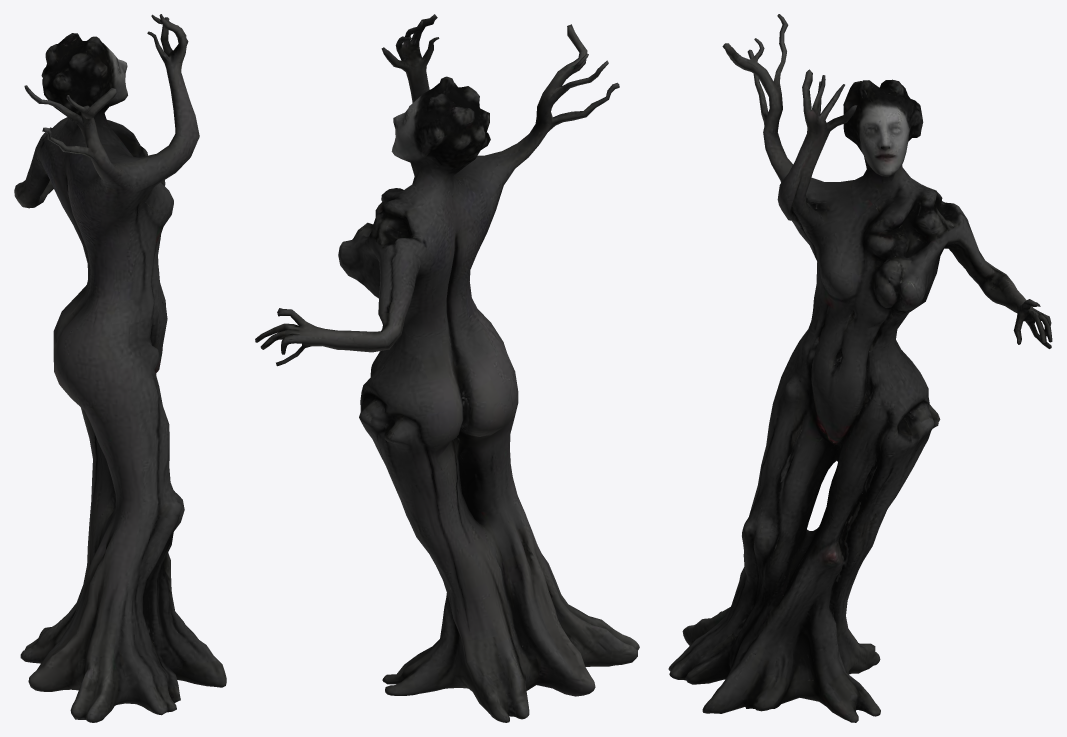
File: frkolnad_kvinna_.glb
3 renders of one model, left to right at view 1: azimuth 30°, elevation 25°; view 2: azimuth 150°, elevation 25°; view 3: azimuth 270°, elevation 25°, orthographic. The views are drawn at different scales.
Parts seen in each view (by area): view 1: tripo_node_a2836d05; view 2: tripo_node_a2836d05; view 3: tripo_node_a2836d05.
Part boxes in pixels (box(x1,y1,x2,y2)): tripo_node_a2836d05: box(14, 14, 226, 722); tripo_node_a2836d05: box(255, 14, 639, 722); tripo_node_a2836d05: box(668, 14, 1052, 722).
Size of the model in its own units: 0.3412 by 0.9848 by 0.5347.
Materials: 1 (1 with a texture image).
